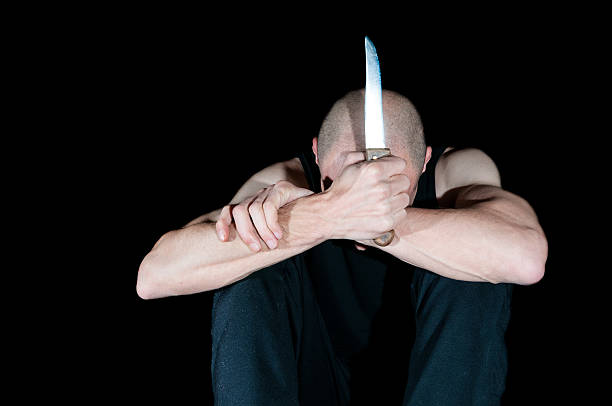knife: (361, 33, 392, 160)
